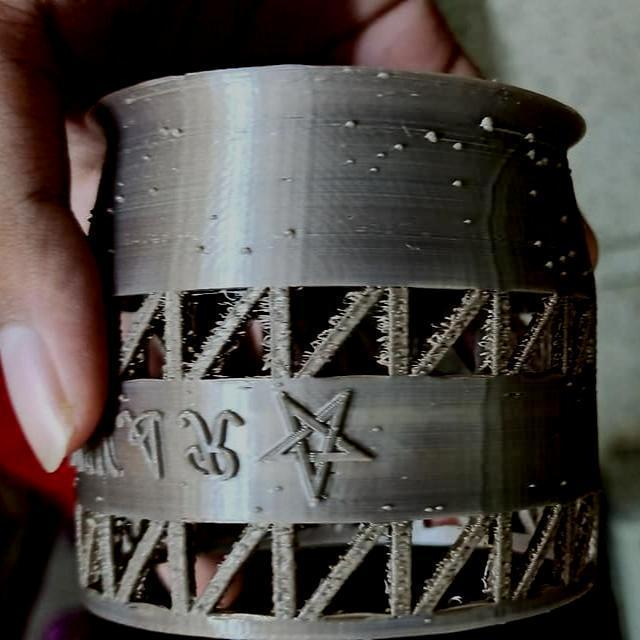zits: (478, 112, 500, 134), (517, 126, 542, 144), (167, 124, 186, 146), (419, 126, 441, 144), (552, 474, 574, 491), (233, 242, 253, 260), (524, 182, 542, 202), (369, 422, 394, 436), (144, 182, 163, 200), (376, 68, 394, 86), (342, 116, 362, 132), (340, 152, 360, 168), (376, 500, 398, 514), (448, 172, 463, 192), (282, 224, 300, 240), (525, 148, 541, 166), (448, 138, 470, 151), (523, 478, 543, 492), (113, 190, 130, 206), (555, 212, 574, 226), (526, 236, 546, 248), (460, 215, 476, 229), (371, 150, 389, 162), (394, 140, 412, 152), (366, 164, 381, 178), (433, 499, 447, 514), (421, 500, 434, 516), (542, 258, 556, 270)
